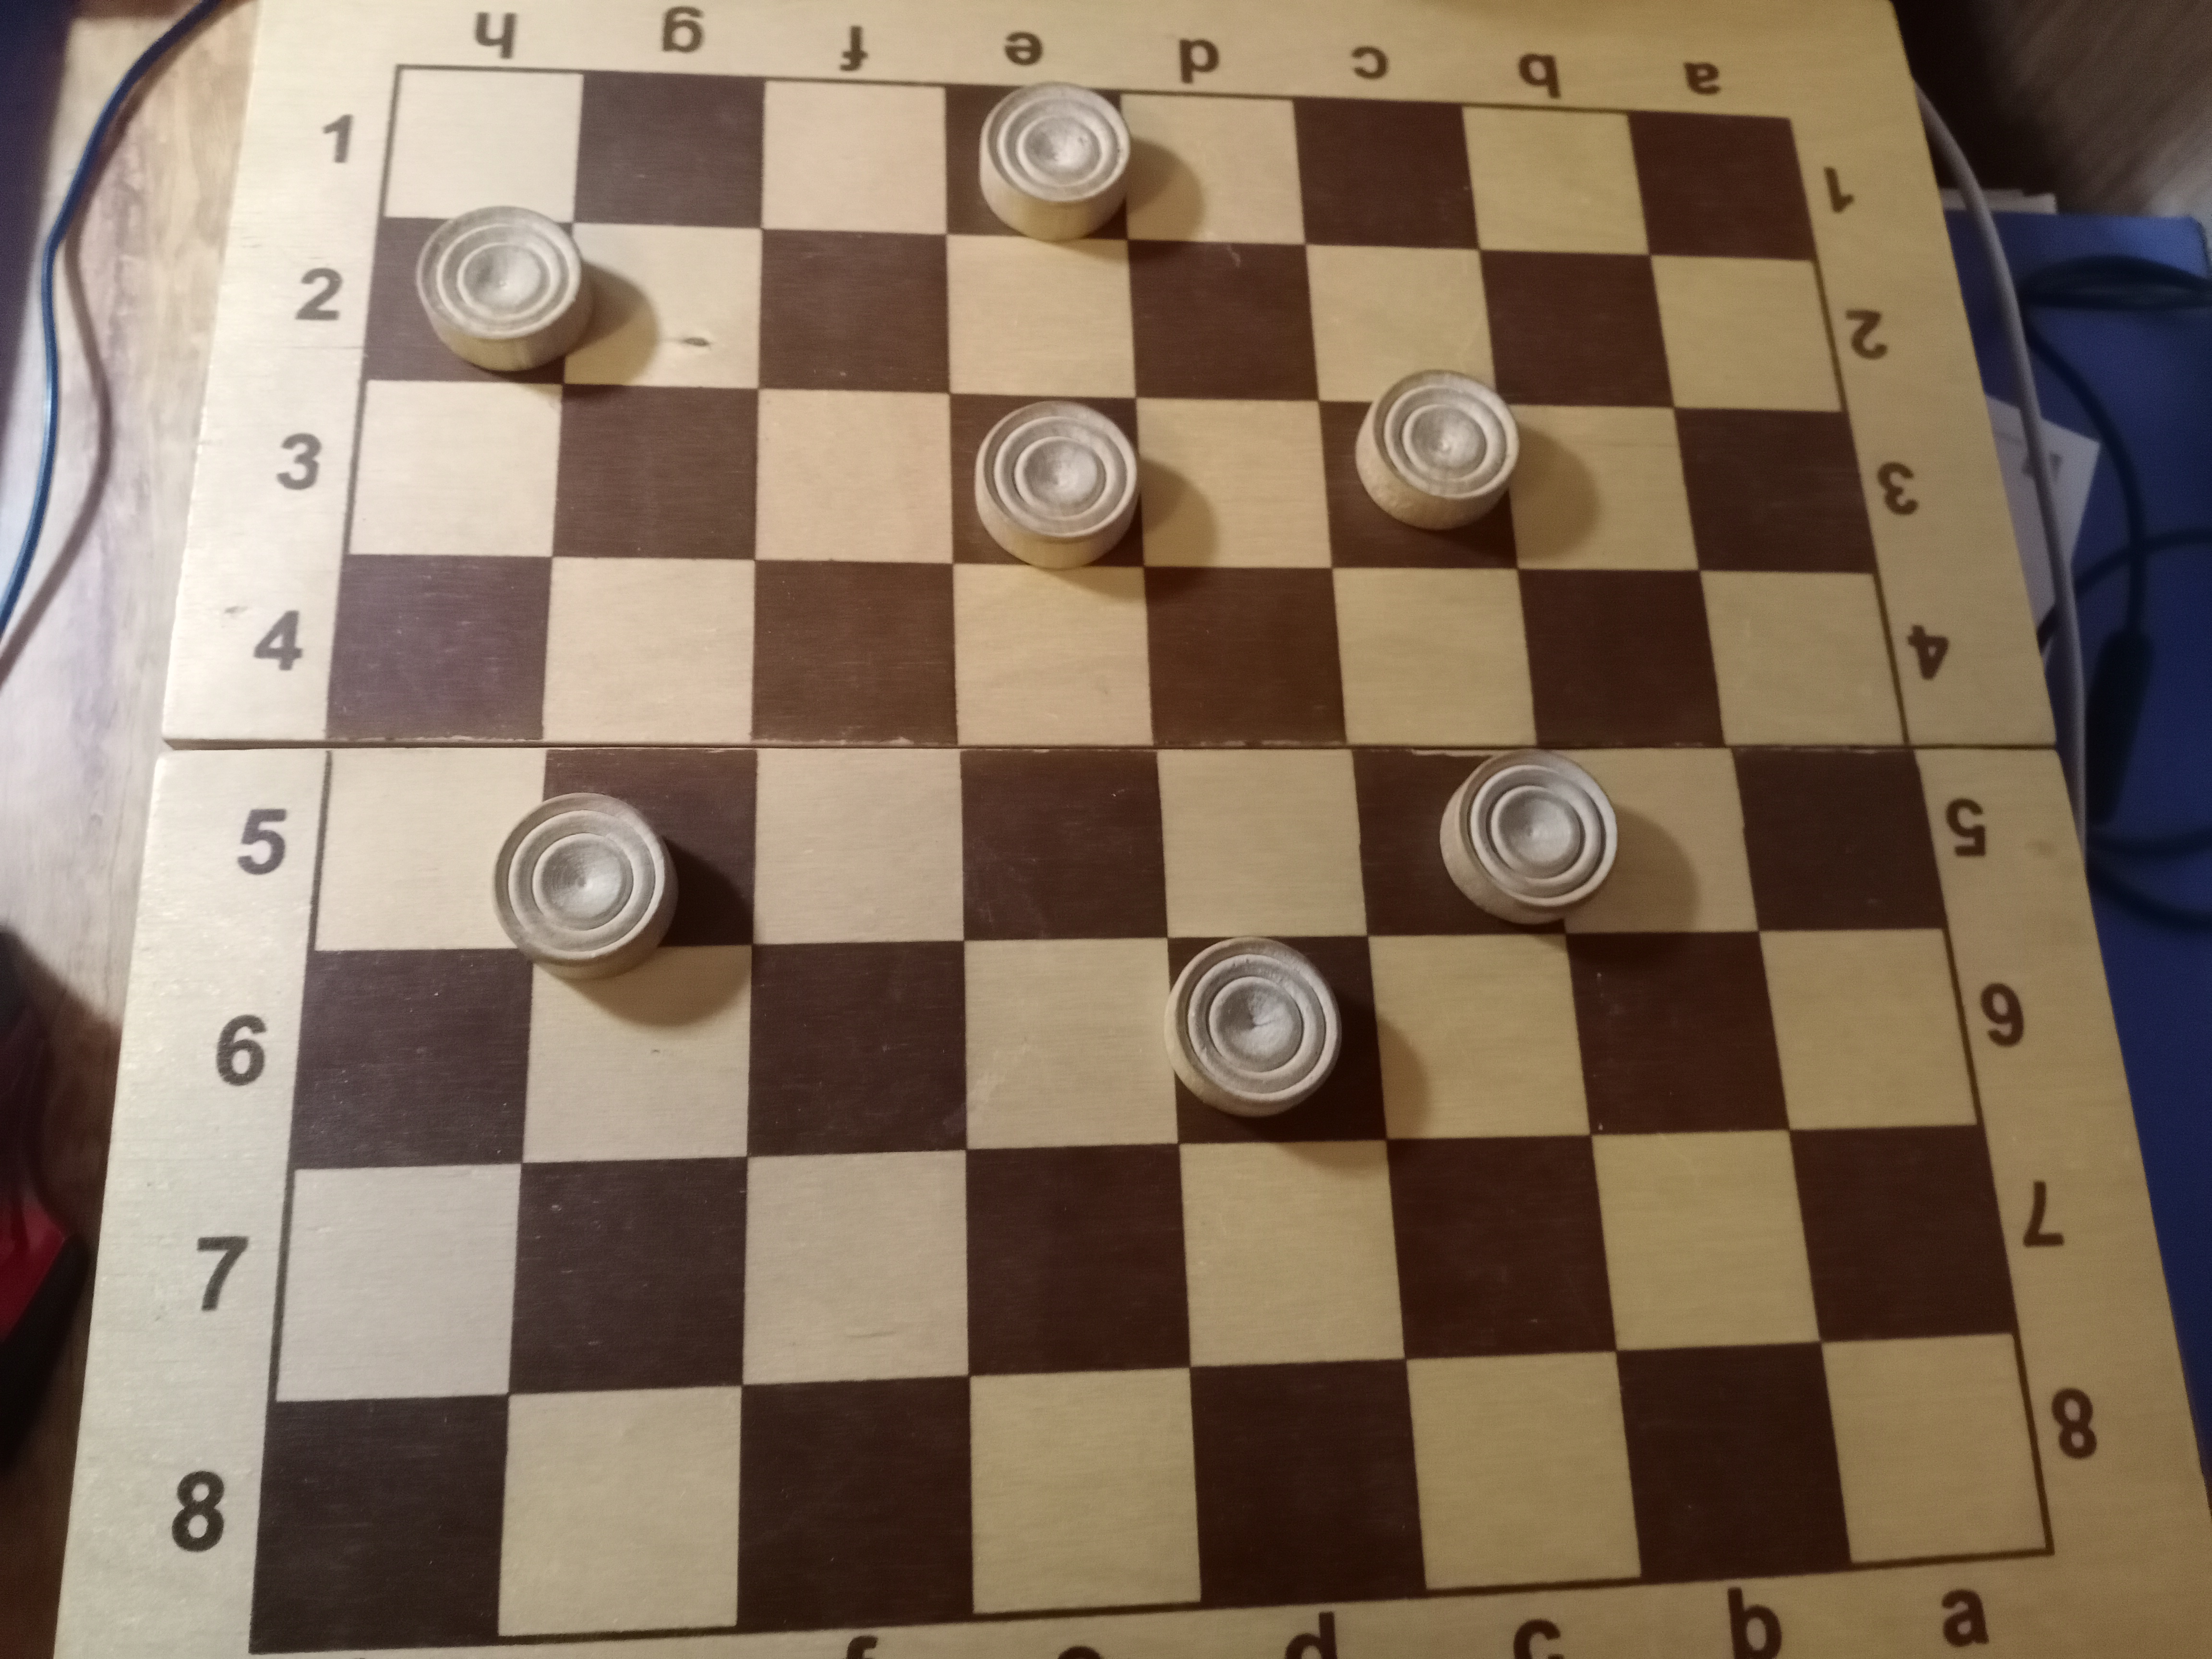White_Draught: (491, 748, 756, 979), (1352, 748, 1618, 939), (1162, 936, 1388, 1143), (369, 204, 594, 385), (1318, 371, 1521, 570), (949, 394, 1144, 568), (946, 82, 1136, 244)
